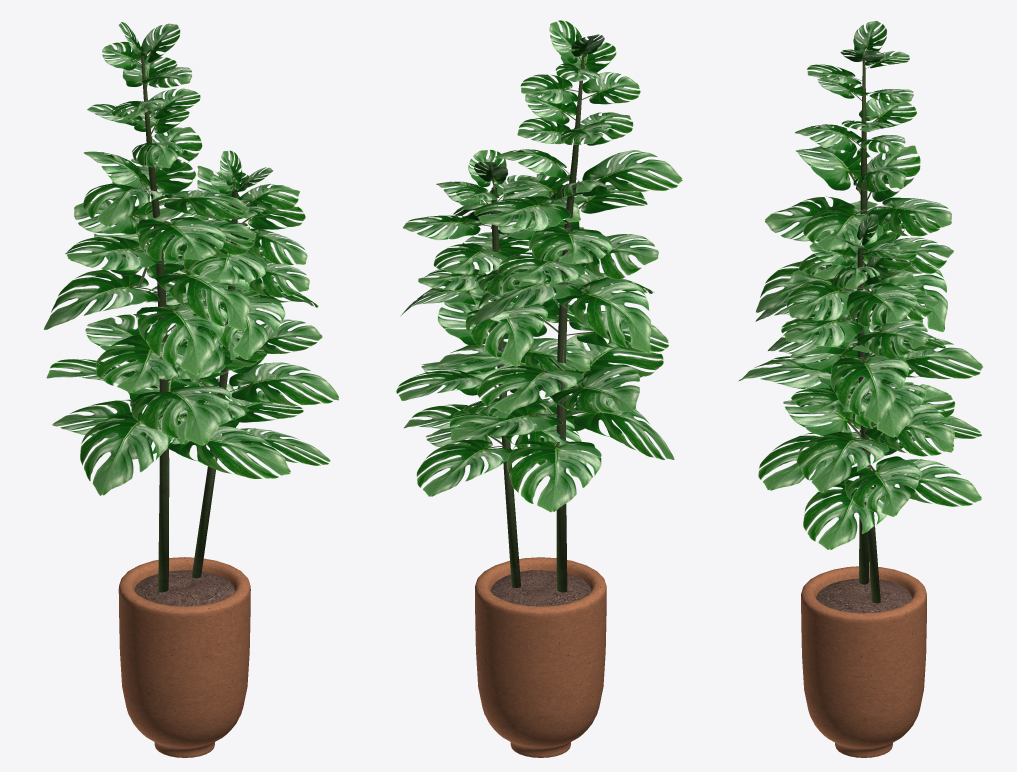
File: plant.glb
3 renders of one model, left to right at view 1: azimuth 30°, elevation 25°; view 2: azimuth 150°, elevation 25°; view 3: azimuth 270°, elevation 25°, orthographic. The views are drawn at different scales.
Parts seen in each view (by area): view 1: Cylinder.002, Plane.017, Plane.013, Plane.004, Plane.021, Plane.019, Plane.046, Plane.030, Plane.029, Plane.022, Cylinder, Plane.064 (+35 smaller); view 2: Cylinder.002, Plane.028, Plane.019, Plane.062, Plane.006, Plane.002, Plane.009, Cylinder, Plane.053, Plane.017, Plane.018, Plane.031 (+39 smaller); view 3: Cylinder.002, Plane.035, Plane.046, Plane.055, Plane.052, Plane.040, Plane.062, Plane.023, Plane.057, Plane.027, Plane.006, Plane.061 (+36 smaller).
Part boxes in pixels (x1,y1,x2,y2): Cylinder.002: (118,557,250,757); Plane.017: (80,412,181,495); Plane.013: (136,301,227,375); Plane.004: (130,386,230,445); Plane.021: (168,425,290,479); Plane.019: (44,269,159,329); Plane.046: (229,362,339,405); Plane.030: (154,260,249,330); Plane.029: (96,335,187,392); Plane.022: (136,217,225,261); Cylinder: (141,55,169,592); Plane.064: (204,295,285,359); Cylinder.002: (475,557,606,757); Plane.028: (507,437,601,512); Plane.019: (555,279,651,353); Plane.062: (416,439,512,496); Plane.006: (477,365,584,412); Plane.002: (574,150,682,196); Plane.009: (551,365,639,413); Cylinder: (556,56,584,592); Plane.053: (465,304,547,366); Plane.017: (566,396,674,459); Plane.018: (449,401,562,440); Plane.031: (529,225,612,264); Cylinder.002: (801,566,926,757); Plane.035: (830,353,909,423); Plane.046: (797,432,888,492); Plane.055: (803,480,886,549); Plane.052: (844,456,921,516); Plane.040: (864,403,954,456); Plane.062: (873,459,981,506); Plane.023: (867,197,952,236); Plane.057: (846,283,916,326); Plane.027: (803,205,884,251); Plane.006: (879,337,983,379); Plane.061: (786,278,862,320).
Bounding box in the file's own units: 200 × 484 × 177.
Materials: 3 (3 with a texture image).
